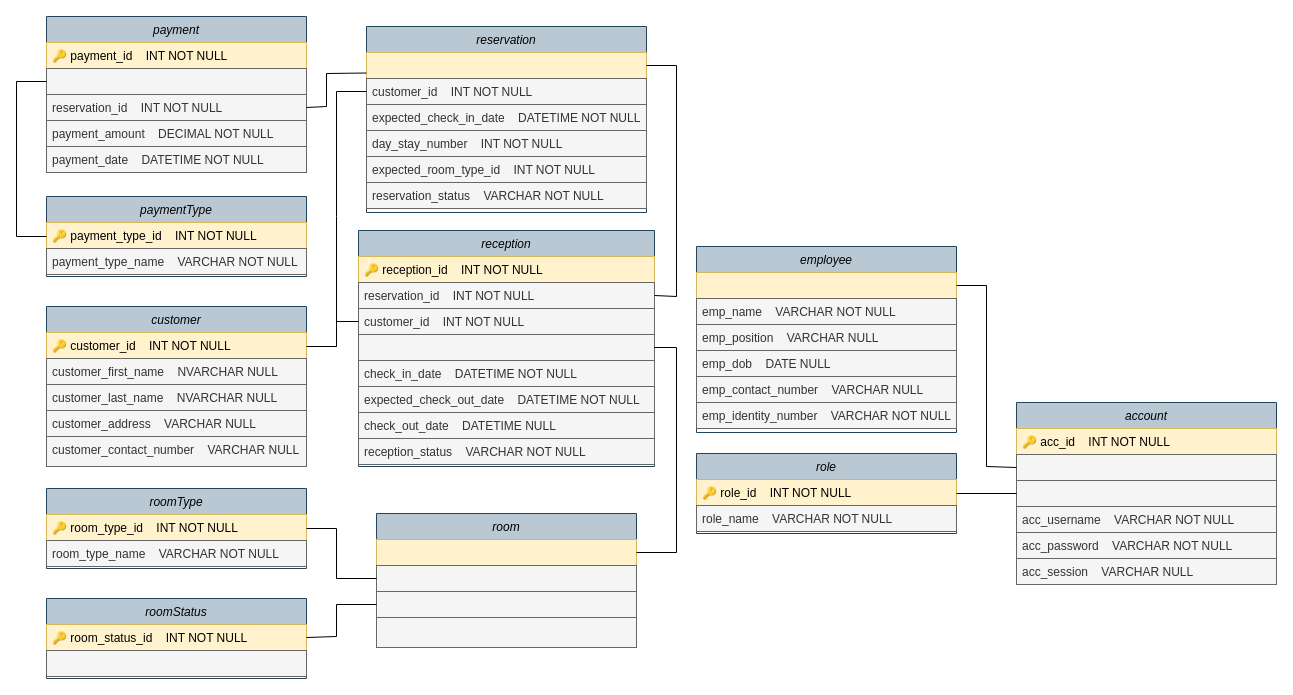
Image size: 1293x695. Some labels were removed from this diagram. The shapes that lost their labels are listed below. From the top down, each one's box as (x1, y1, x2, y2) in pixels, then its label:
(46, 68, 306, 94): payment_type_id INT NOT NULL
(366, 52, 646, 78): 🔑 reservation_id INT NOT NULL
(696, 272, 956, 298): 🔑 emp_id INT NOT NULL
(358, 334, 654, 360): room_id INT NOT NULL
(1016, 454, 1276, 480): emp_id INT NOT NULL
(1016, 480, 1276, 506): role_id INT NOT NULL
(376, 538, 636, 566): 🔑 room_id INT NOT NULL
(376, 564, 636, 592): room_type_id INT NOT NULL
(376, 590, 636, 618): room_status_id INT NOT NULL
(376, 616, 636, 648): room_number INT NOT NULL
(46, 650, 306, 676): room_status_name VARCHAR NOT NULL
